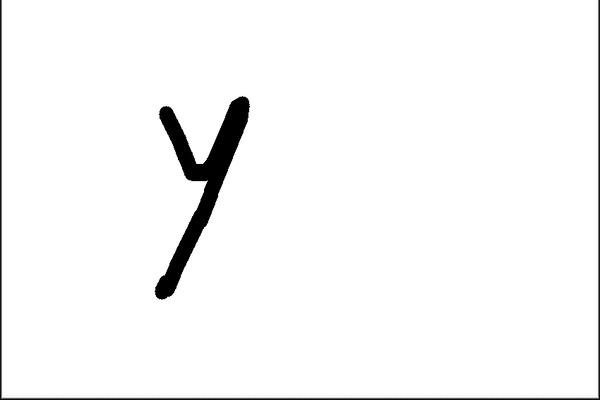Y: (135, 82, 263, 312)
